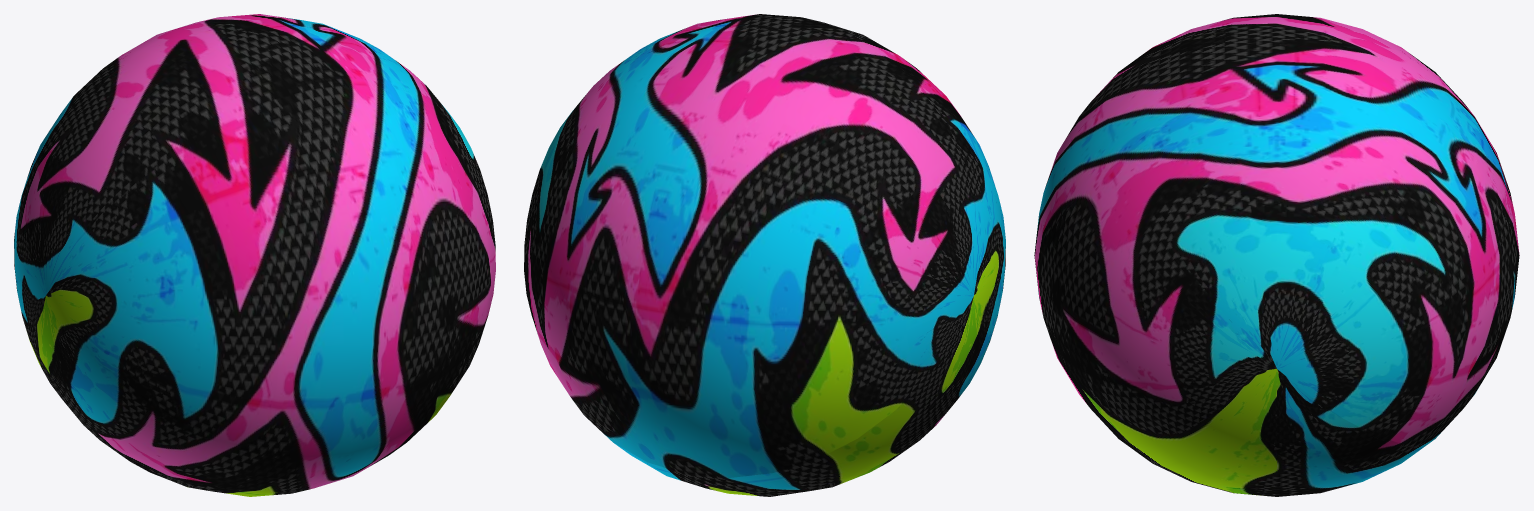
3 views of the same model, side by side, from view 1: azimuth 30°, elevation 25°; view 2: azimuth 150°, elevation 25°; view 3: azimuth 270°, elevation 25° (orthographic).
Visible parts, largest first — view 1: Sphere; view 2: Sphere; view 3: Sphere.
Boxes of the visible parts, x1,y1,x2,y2 form: Sphere: (14,14,495,496); Sphere: (524,14,1005,496); Sphere: (1034,14,1519,496).
Size of the model in its own units: 0.9988 by 0.9988 by 1.
Materials: 1 (1 with a texture image).
